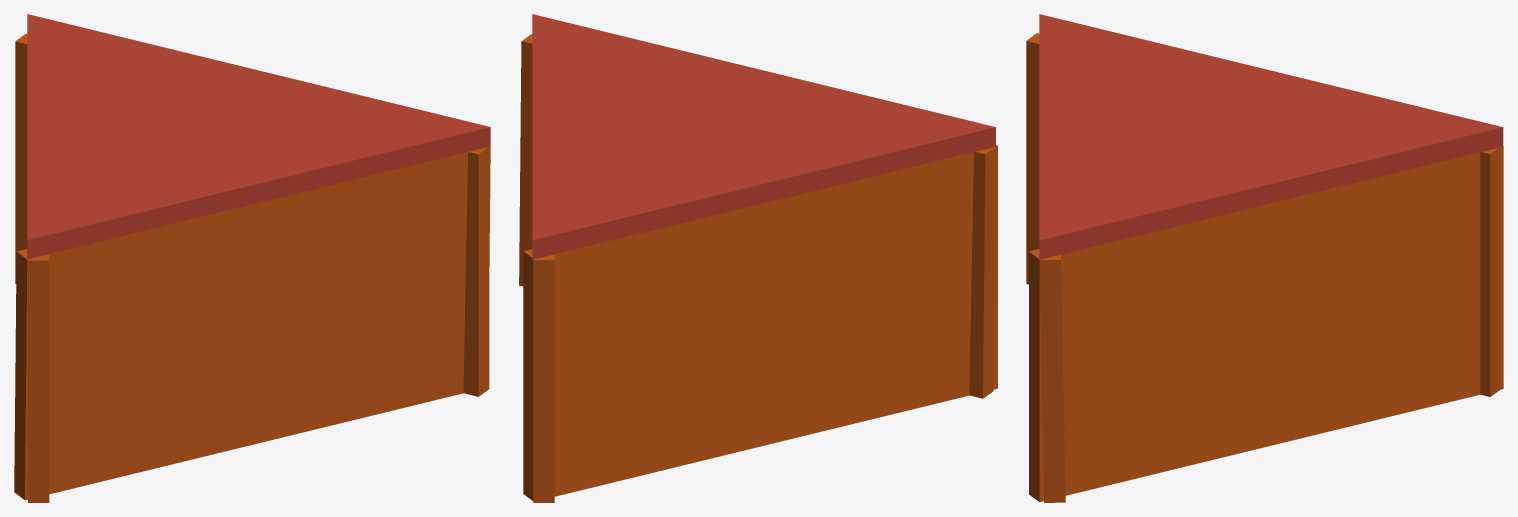
The model's file is Foundation_Triangle.fbx.
3 views of the same model, side by side, from view 1: azimuth 30°, elevation 25°; view 2: azimuth 150°, elevation 25°; view 3: azimuth 270°, elevation 25° (orthographic).
Parts seen in each view (by area): view 1: Cube.035, Base, Cube.037, Cube.036; view 2: Cube.036, Base, Cube.035, Cube.037; view 3: Cube.037, Base, Cube.036, Cube.035.
Part boxes in pixels (x1,y1,x2,y2): Cube.035: (14,146,490,500); Base: (27,14,490,259); Cube.037: (15,33,489,396); Cube.036: (28,254,49,502); Cube.036: (523,145,997,500); Base: (532,14,995,259); Cube.035: (519,34,995,398); Cube.037: (533,254,554,502); Cube.037: (1029,146,1503,501); Base: (1039,14,1503,259); Cube.036: (1026,33,1500,396); Cube.035: (1039,254,1065,502).
Bounding box in the file's own units: 501 × 270 × 446.
